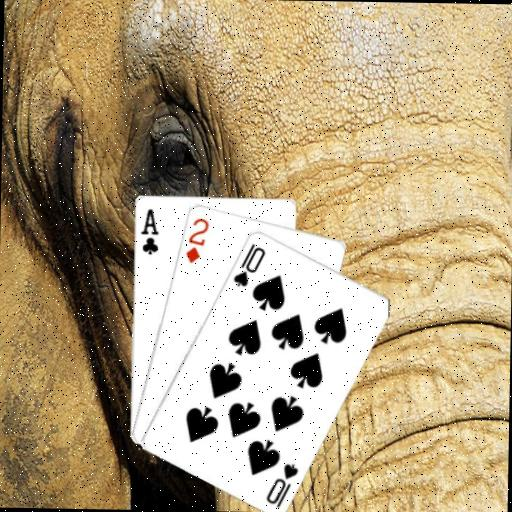10S: (262, 459, 300, 510), (230, 240, 267, 289)
2D: (183, 215, 211, 265)
AC: (138, 206, 161, 256)
